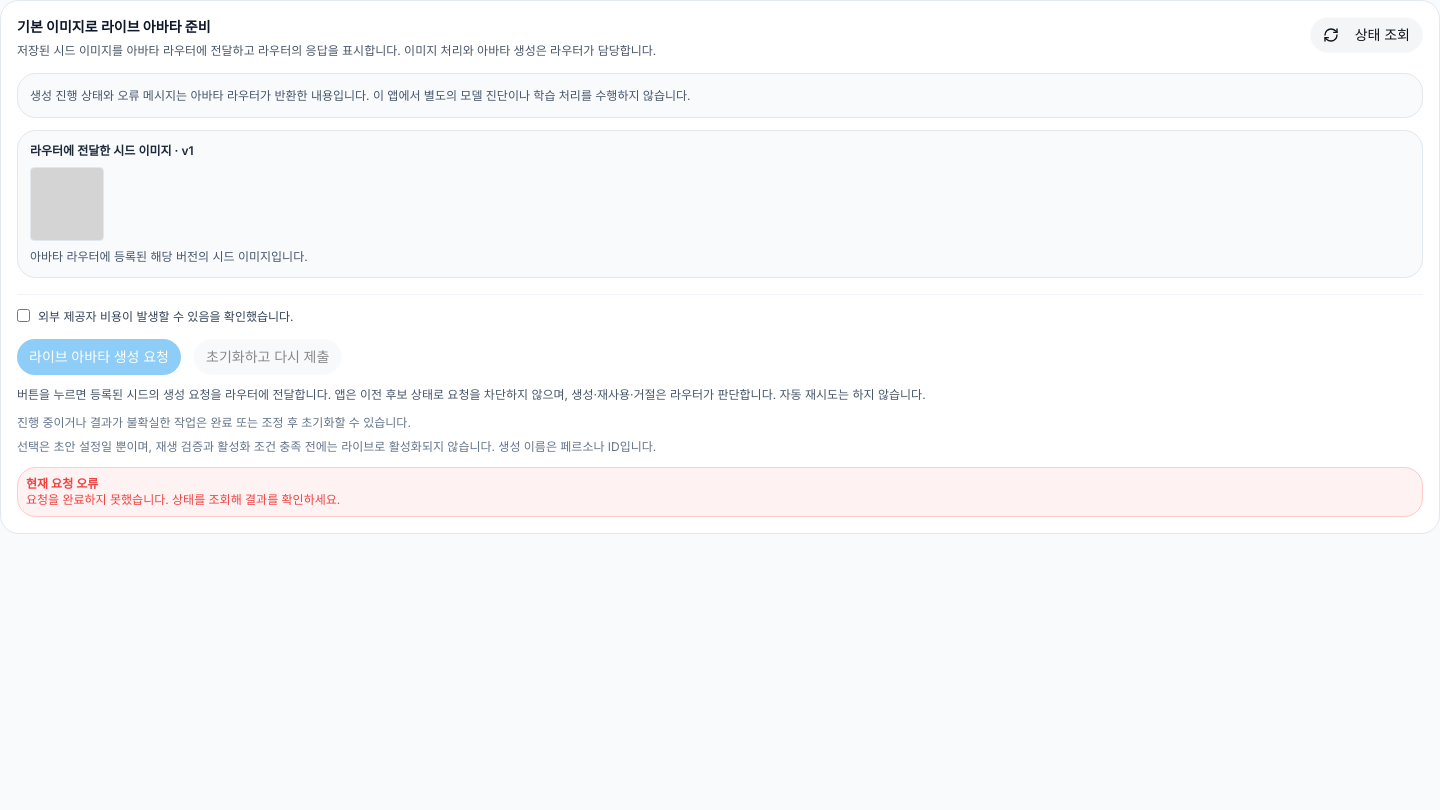
Test: seed editor mock UI › still allows a saved seed request if the status read is unavailable, and displays router rejection
Check: the message "현재 요청 오류 요청을 완료하지 못했습니다. 상태를 조회해 결과를 확인하세요." is shown, box [17, 466, 1423, 516]
Click the checkbox labelled "외부 제공자 비용이 발생할 수 있음을 확인했습니다." at (24, 316), box [17, 309, 30, 322]
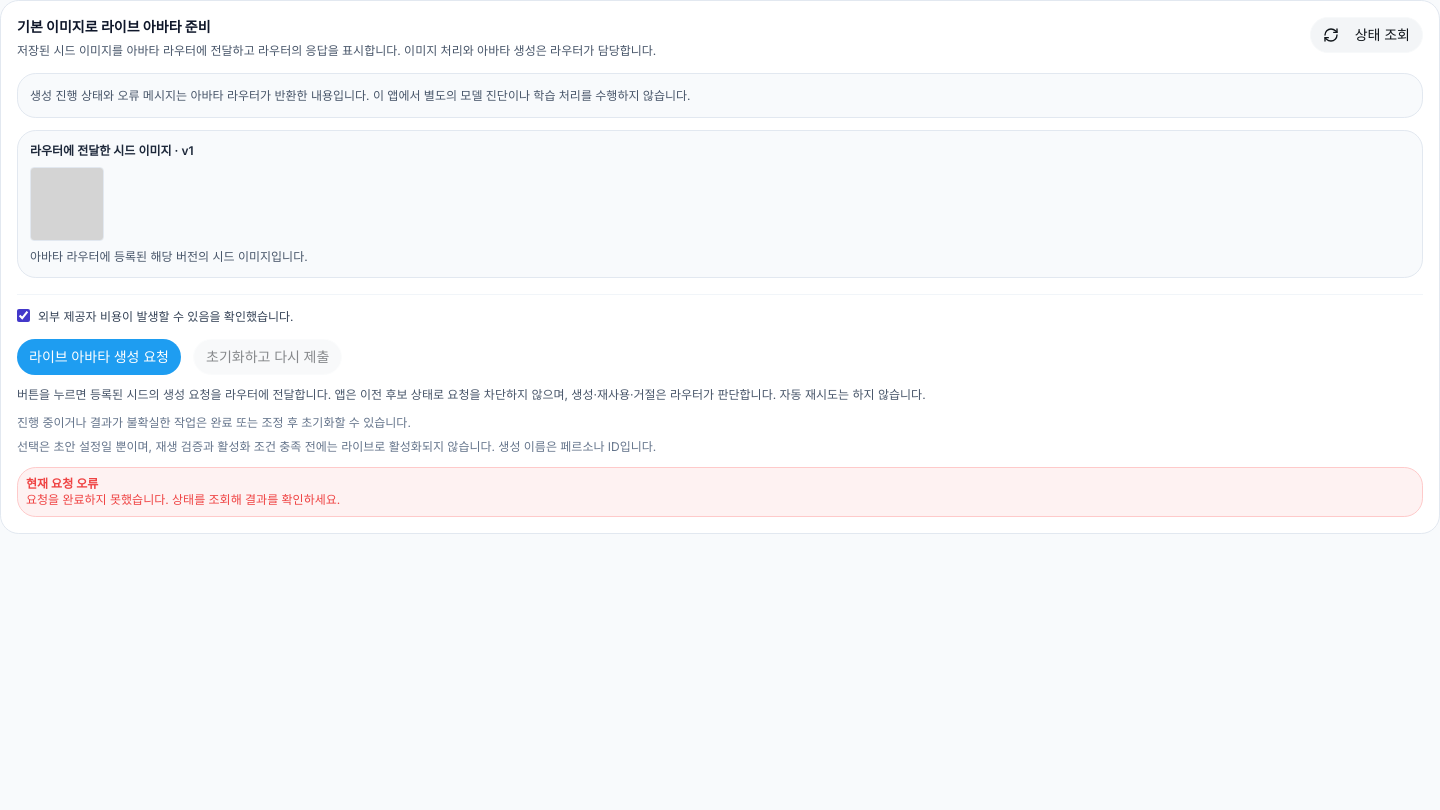
Check: the button with test id "button-seed-create" is enabled
Click the button with test id "button-seed-create" at (99, 356), box [17, 338, 181, 374]
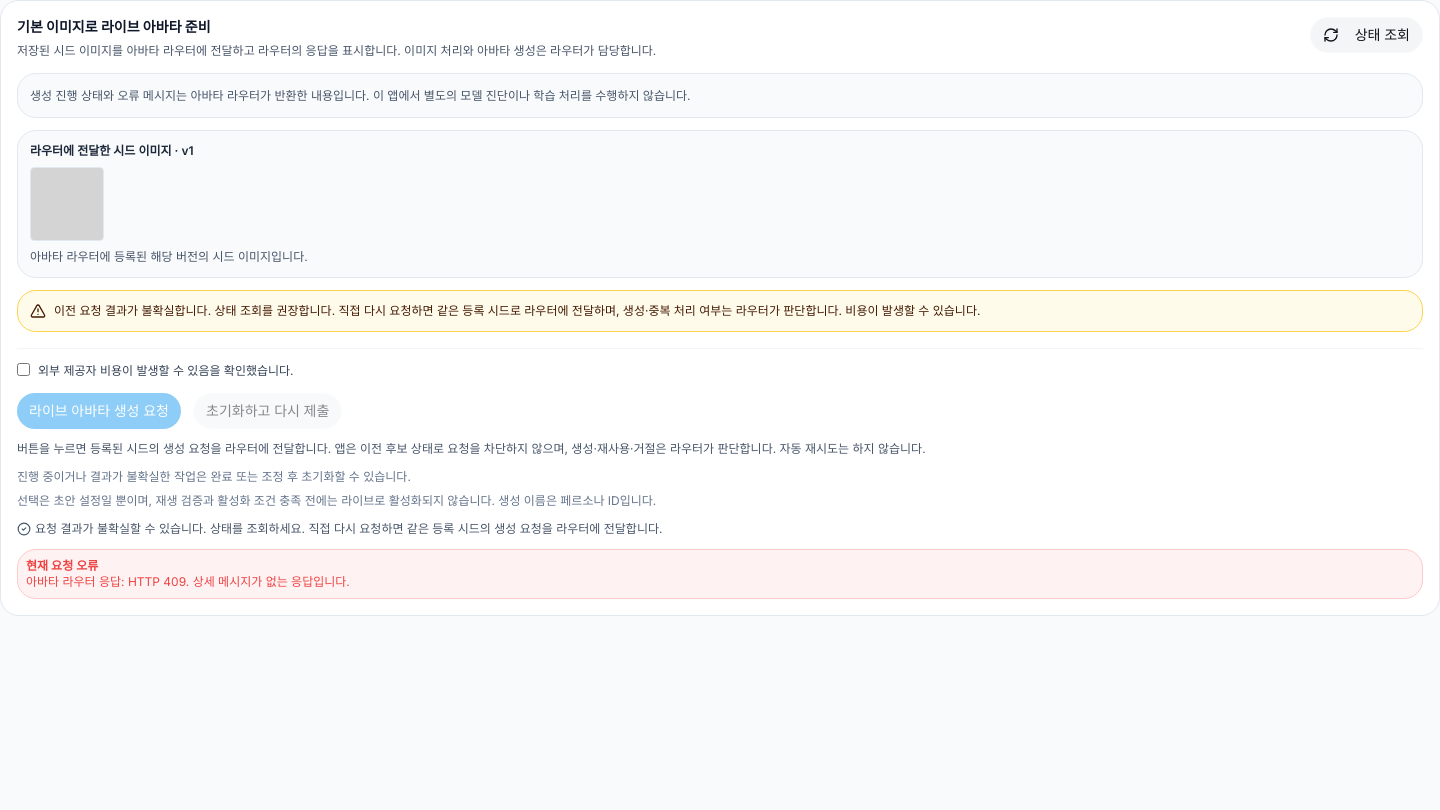
Check: the text "아바타 라우터 응답: HTTP 409. 상세 메시지가 없는 응답입니다." is shown, box [26, 574, 350, 588]
